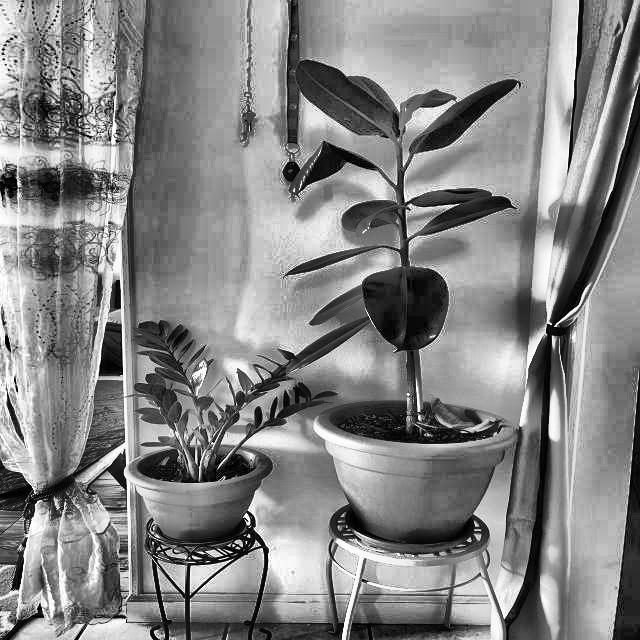plants: (296, 66, 542, 554), (122, 338, 278, 544)
